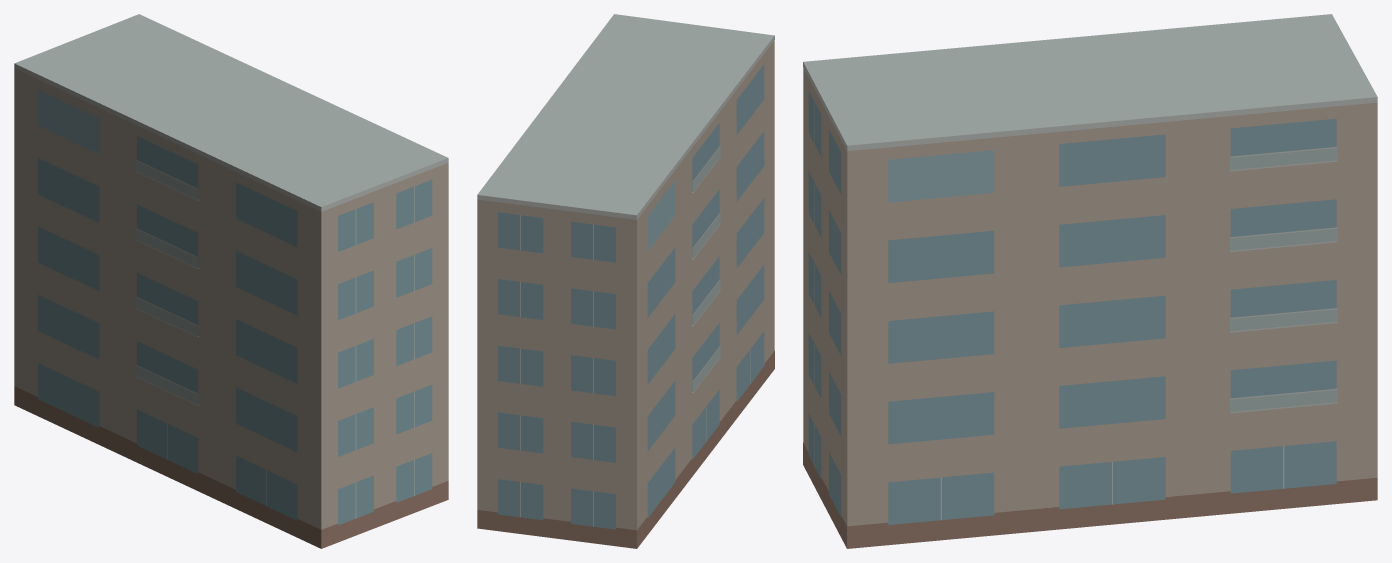
File: survey-upis-32744953.glb
3 renders of one model, left to right at view 1: azimuth 30°, elevation 25°; view 2: azimuth 150°, elevation 25°; view 3: azimuth 270°, elevation 25°, orthographic. The views are drawn at different scales.
Parts seen in each view (by area): view 1: survey-upis-32744953.tmp; view 2: survey-upis-32744953.tmp; view 3: survey-upis-32744953.tmp.
Part boxes in pixels (<box>): survey-upis-32744953.tmp: <box>14,14,448,548</box>; survey-upis-32744953.tmp: <box>477,14,774,548</box>; survey-upis-32744953.tmp: <box>803,14,1377,548</box>.
Size of the model in its own units: 12.5 by 17.83 by 23.04.
